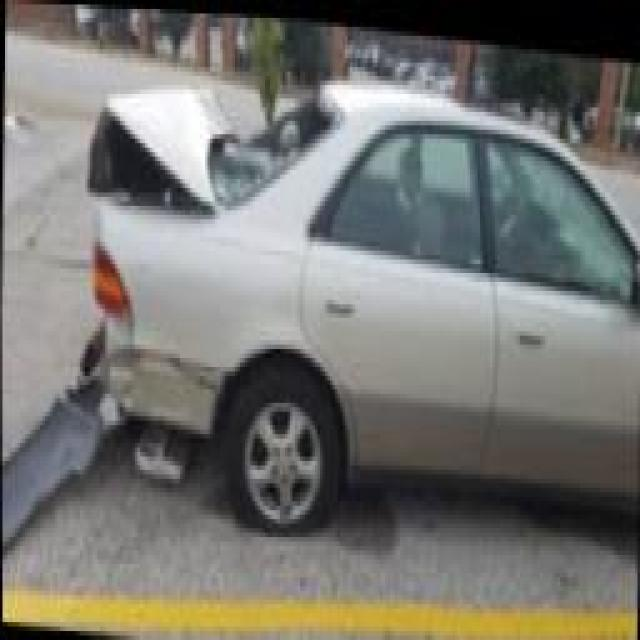Bumper: (76, 314, 225, 437)
Dickey: (87, 73, 237, 209)
Windshield: (215, 79, 346, 198)
